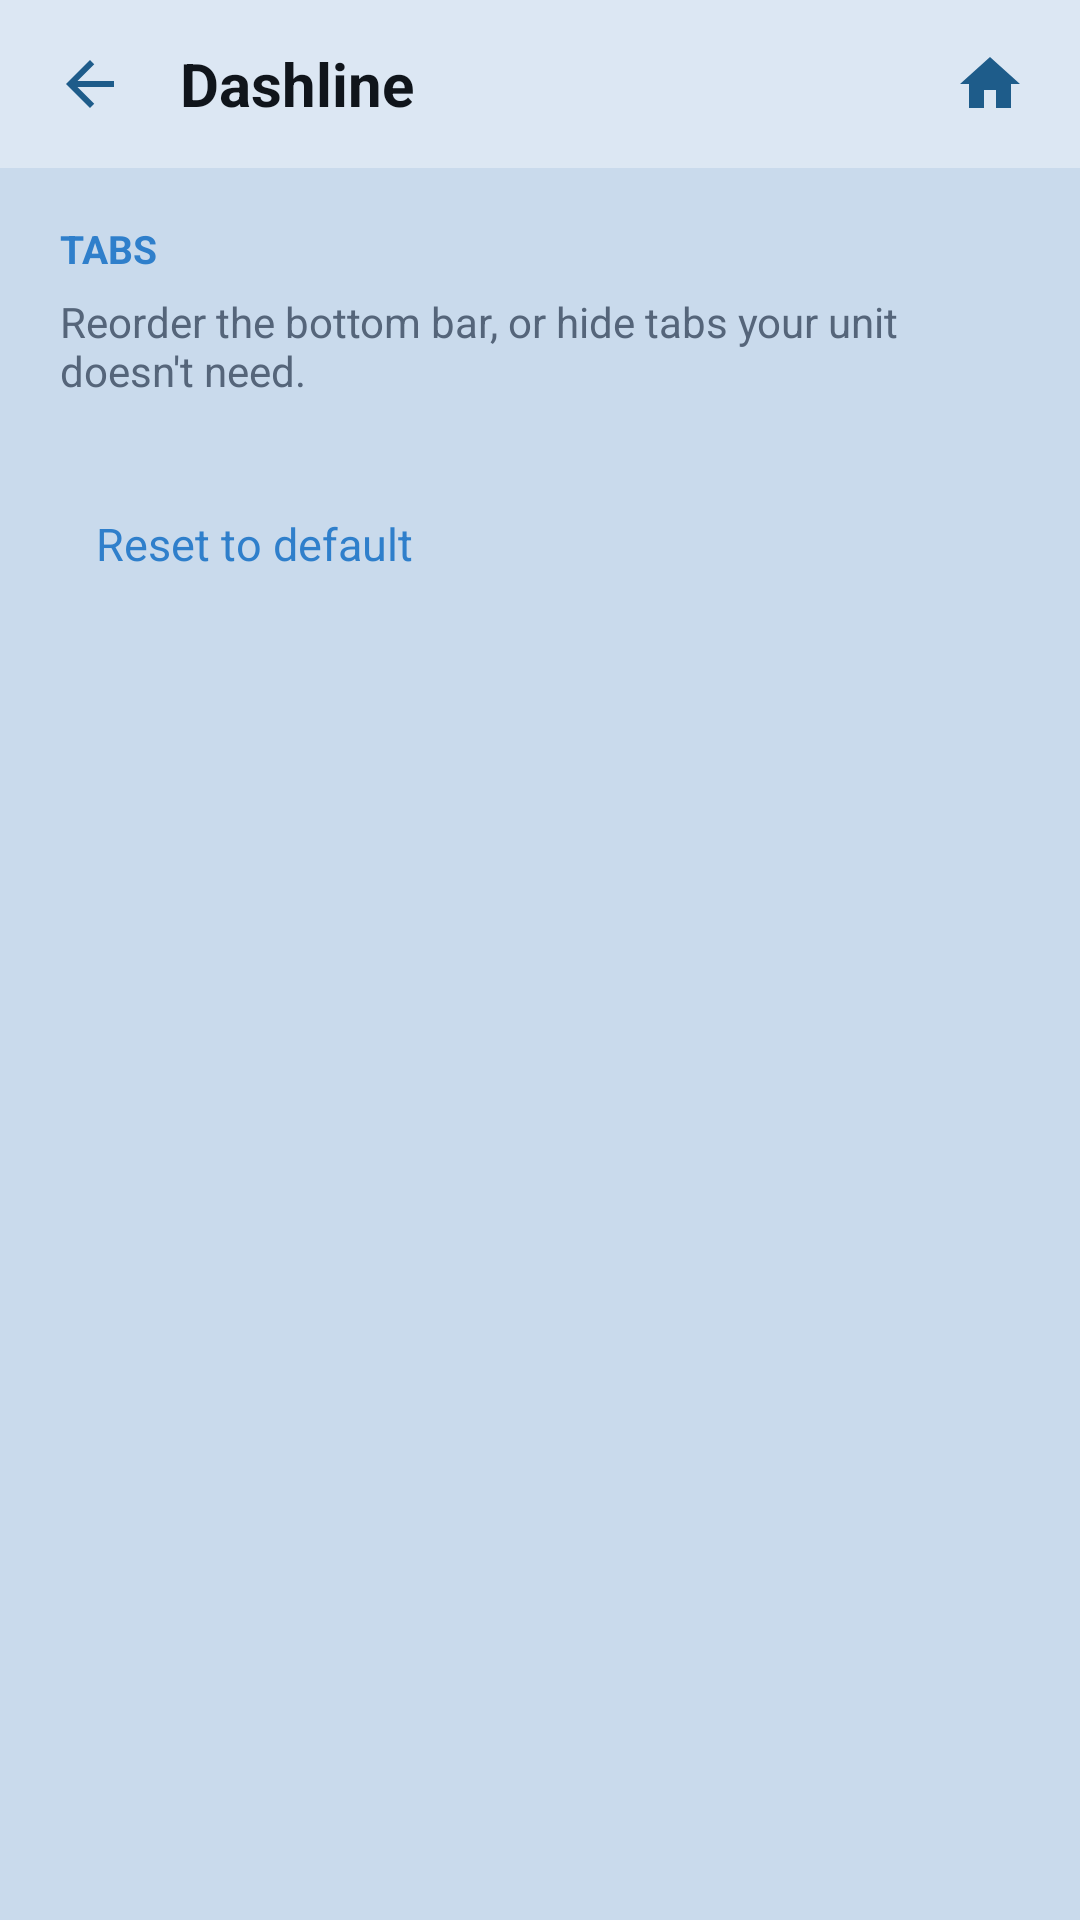

Locate icon controls on the screen. Image size 1080px x 1920px, boxes as (x1, y1, x2, y2).
Back: (66, 60, 114, 108)
Home: (960, 57, 1020, 108)
